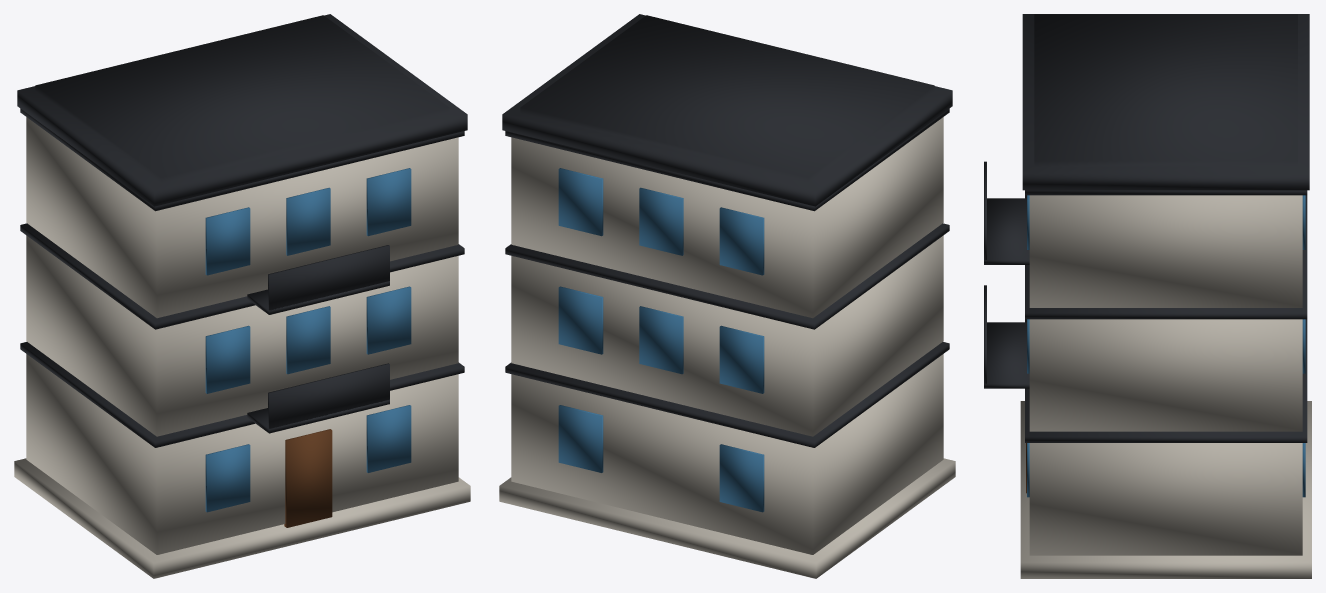
The model's file is modular_building.fbx.
3 renders of one model, left to right at view 1: azimuth 30°, elevation 25°; view 2: azimuth 150°, elevation 25°; view 3: azimuth 270°, elevation 25°, orthographic. The views are drawn at different scales.
Visible parts, largest first — view 1: ModularBuilding; view 2: ModularBuilding; view 3: ModularBuilding.
Part boxes in pixels (x1,y1,x2,y2): ModularBuilding: (14,14,470,578); ModularBuilding: (499,14,955,578); ModularBuilding: (984,14,1311,578).
Size of the model in its own units: 8.4 by 9.95 by 7.2.
